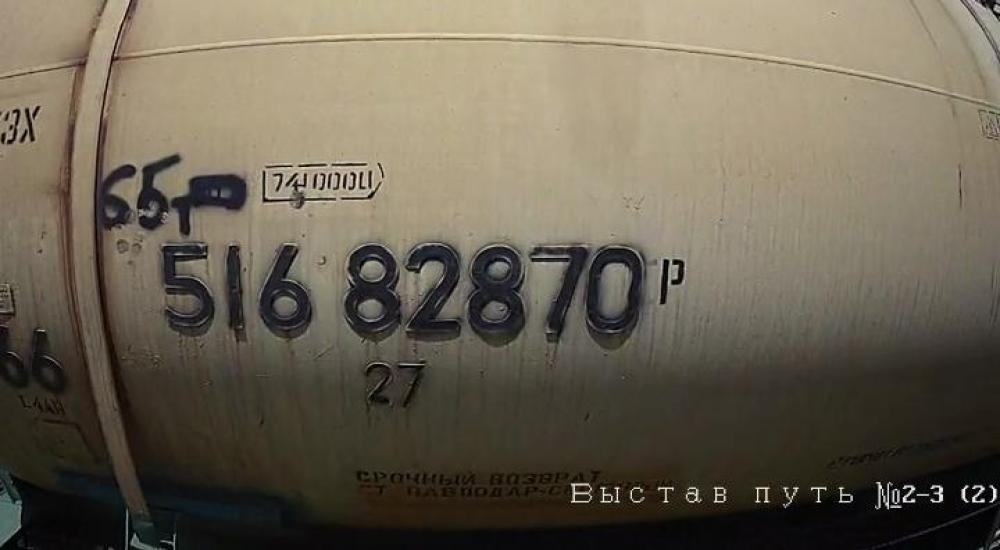Wagon-number: (156, 235, 646, 349)
